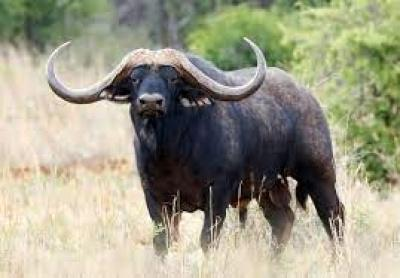buffalo: (46, 38, 346, 258)
